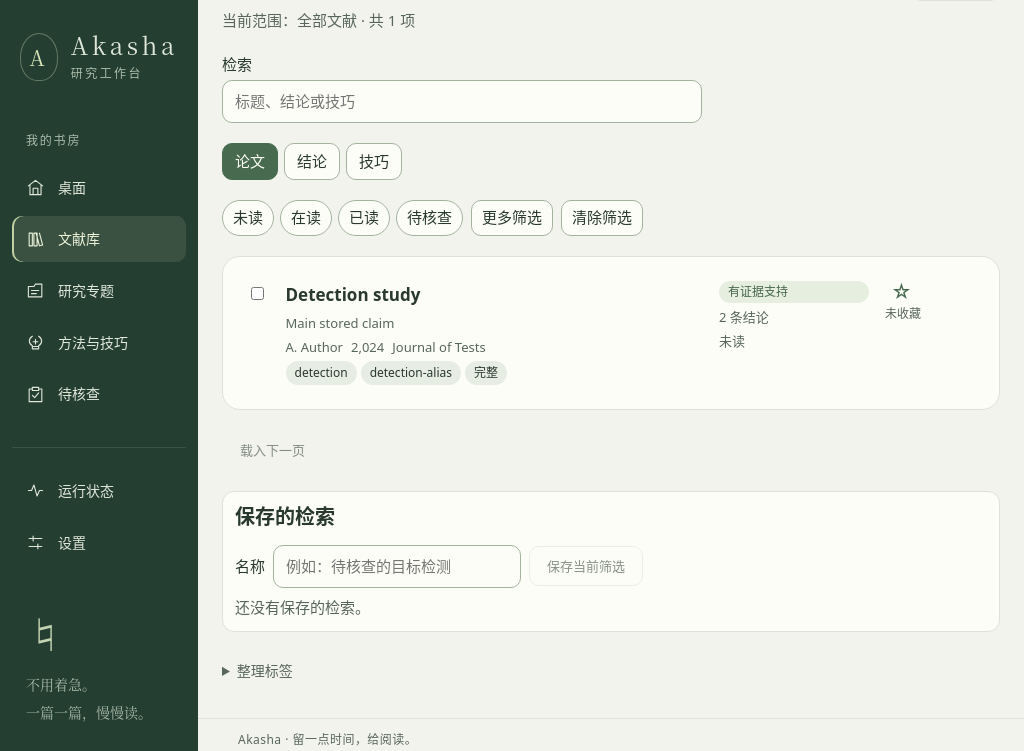
Test: UX-044 saved searches and tag actions recover from conflicts › reports a tag conflict instead of merging silently
The image size is (1024, 751).
(page scrolled)
Expected: the link "Detection study" is shown, left=286, top=282, right=420, bottom=306
What coordinates should you click on to do the following:
click the heading "整理标签"
I would click on:
 (265, 671)
Its box is left=237, top=661, right=293, bottom=680.
(page scrolled)
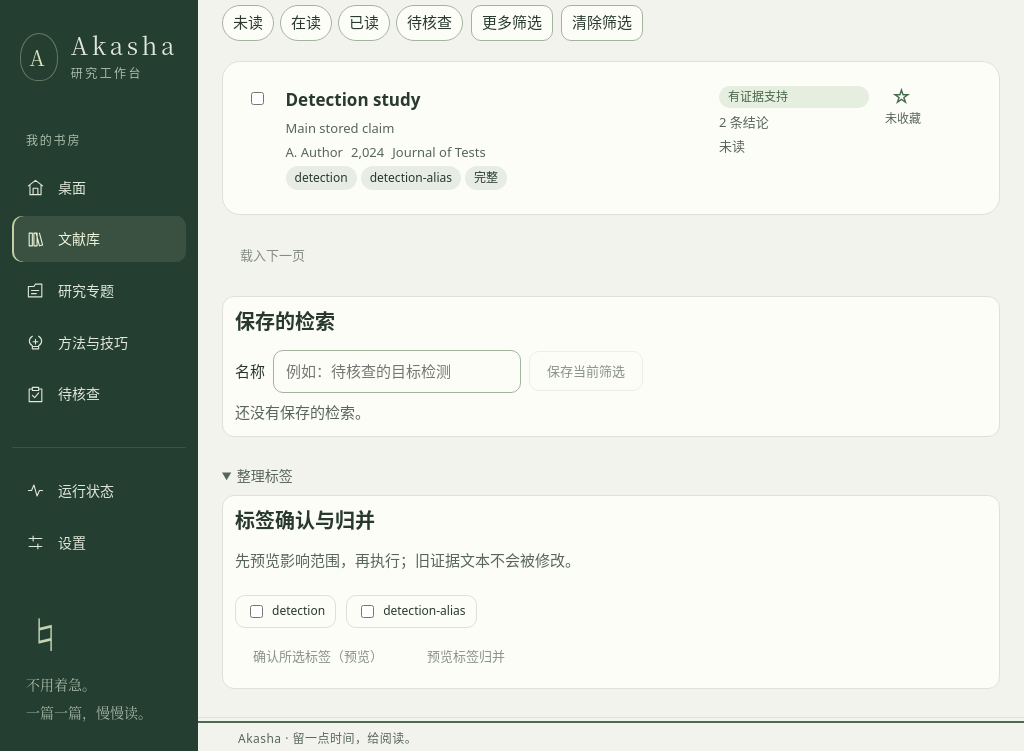
What coordinates should you click on to do the following:
click the checkbox labelled "detection"
I would click on:
 (256, 612)
Its box is left=250, top=605, right=263, bottom=618.
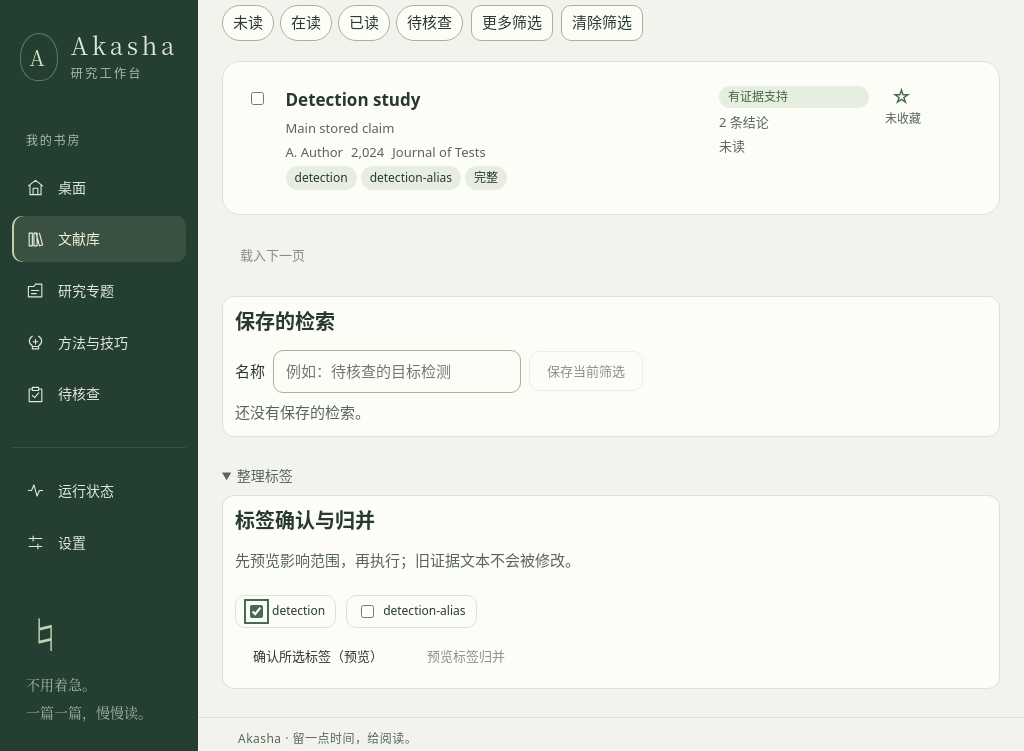
What coordinates should you click on to do the following:
click the checkbox labelled "detection-alias"
I would click on:
 (368, 612)
Its box is left=361, top=605, right=374, bottom=618.
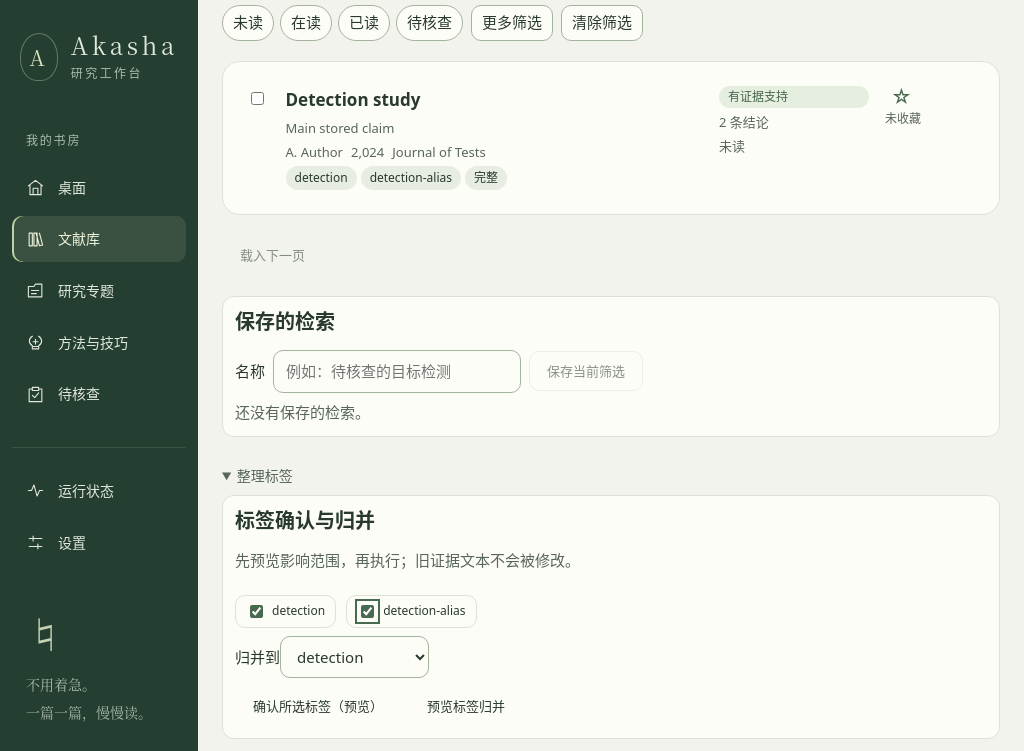
What coordinates should you click on to do the following:
click the button "预览标签归并"
I would click on:
 (466, 706)
Its box is left=409, top=686, right=523, bottom=726.
(page scrolled)
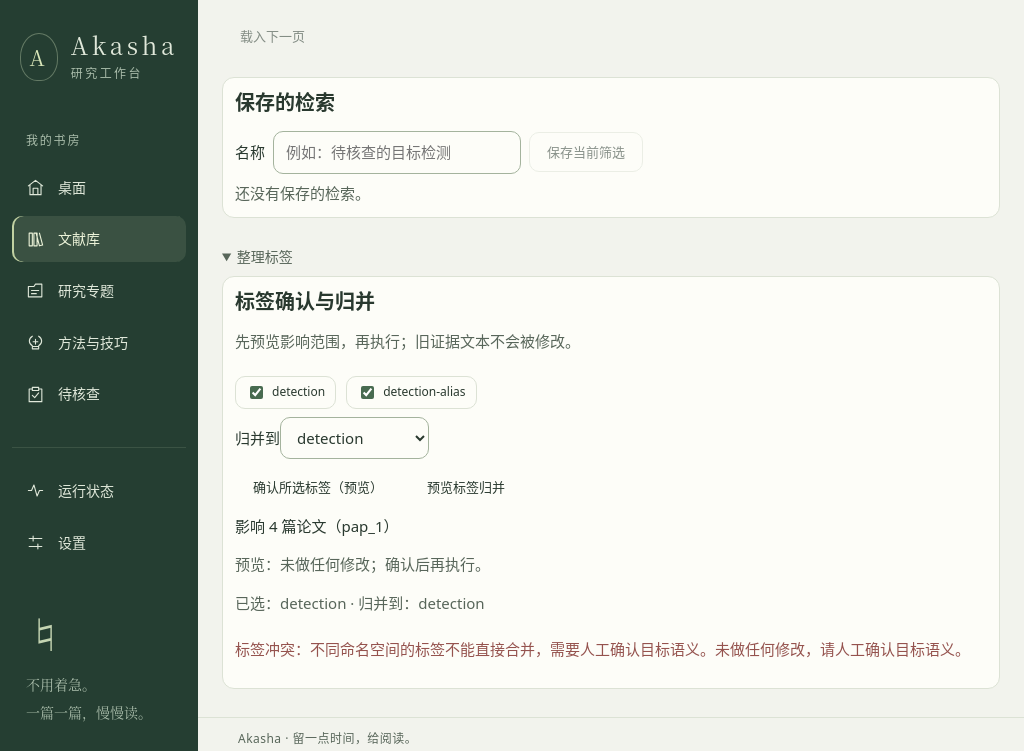
Expected: the message with test id "tag-conflict" shows "不能直接合并", left=310, top=639, right=700, bottom=659
Expected: the message with test id "tag-conflict" shows "未做任何修改", left=700, top=639, right=970, bottom=659
